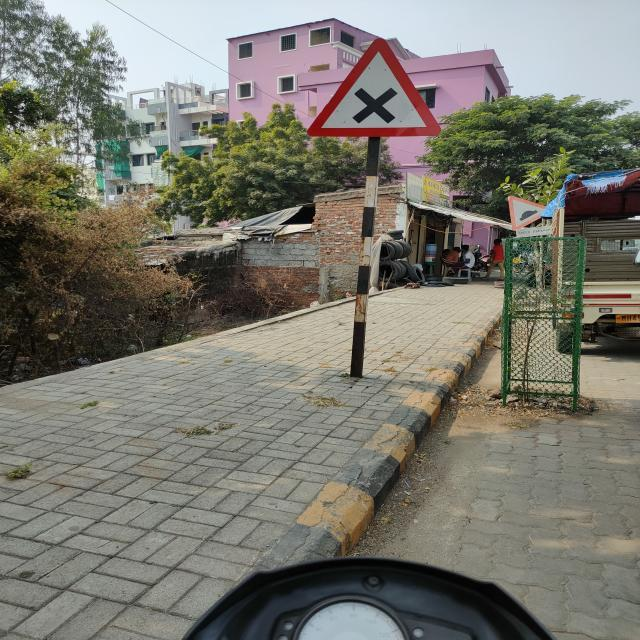cross road: (309, 36, 441, 139)
